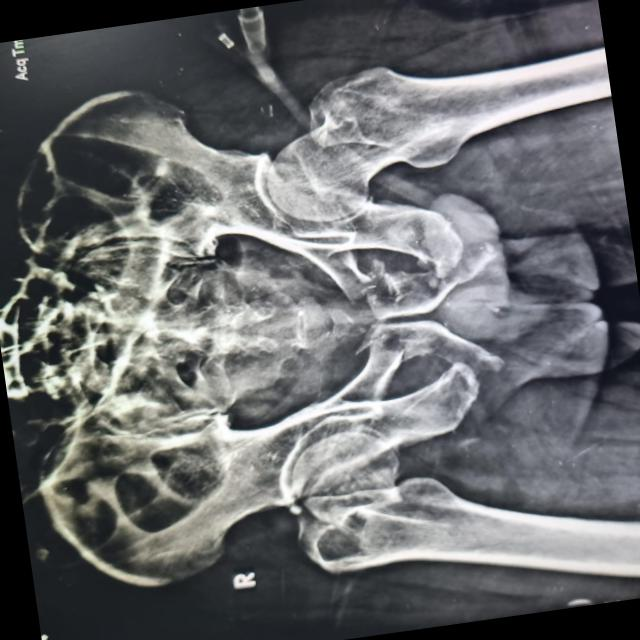normal-left: (267, 64, 535, 222)
right-neck: (295, 476, 523, 574), (292, 430, 402, 525)
